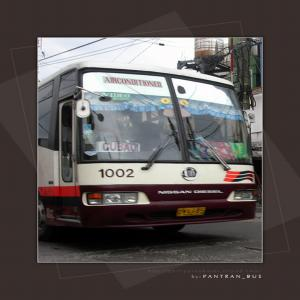Vehicle-registration-plate: (179, 208, 206, 218)
